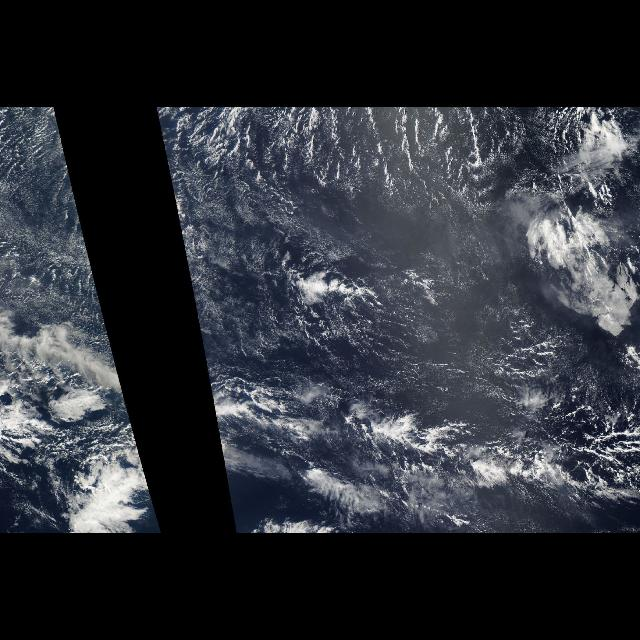Sugar: (154, 108, 606, 418), (0, 107, 112, 350)
